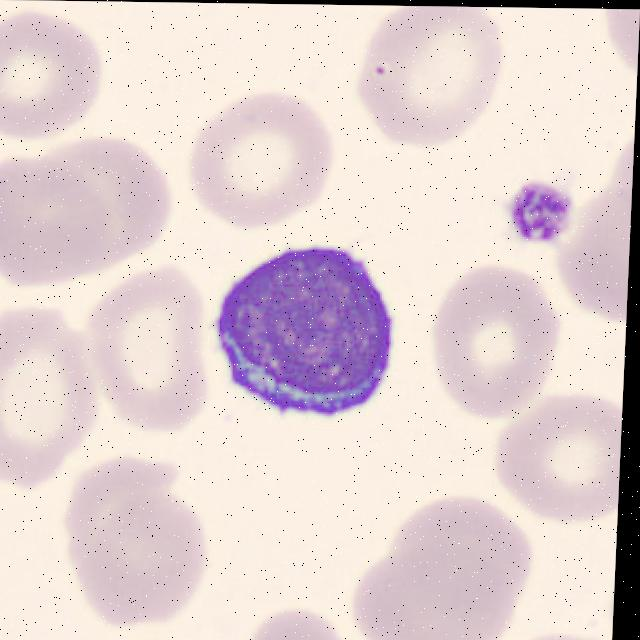lymphocyte: (184, 237, 421, 433)
platelets: (505, 172, 590, 252)
rbc: (59, 462, 213, 614), (359, 5, 510, 144), (432, 259, 567, 412), (186, 93, 341, 223), (88, 274, 219, 424), (491, 388, 623, 529), (35, 120, 172, 255), (0, 304, 95, 494), (395, 494, 542, 598), (0, 162, 119, 275), (354, 555, 508, 640), (0, 11, 98, 136), (564, 196, 632, 327), (597, 131, 635, 235), (250, 606, 355, 640), (595, 9, 640, 67), (517, 620, 604, 640), (562, 210, 567, 312), (118, 638, 187, 640), (0, 600, 2, 640)
